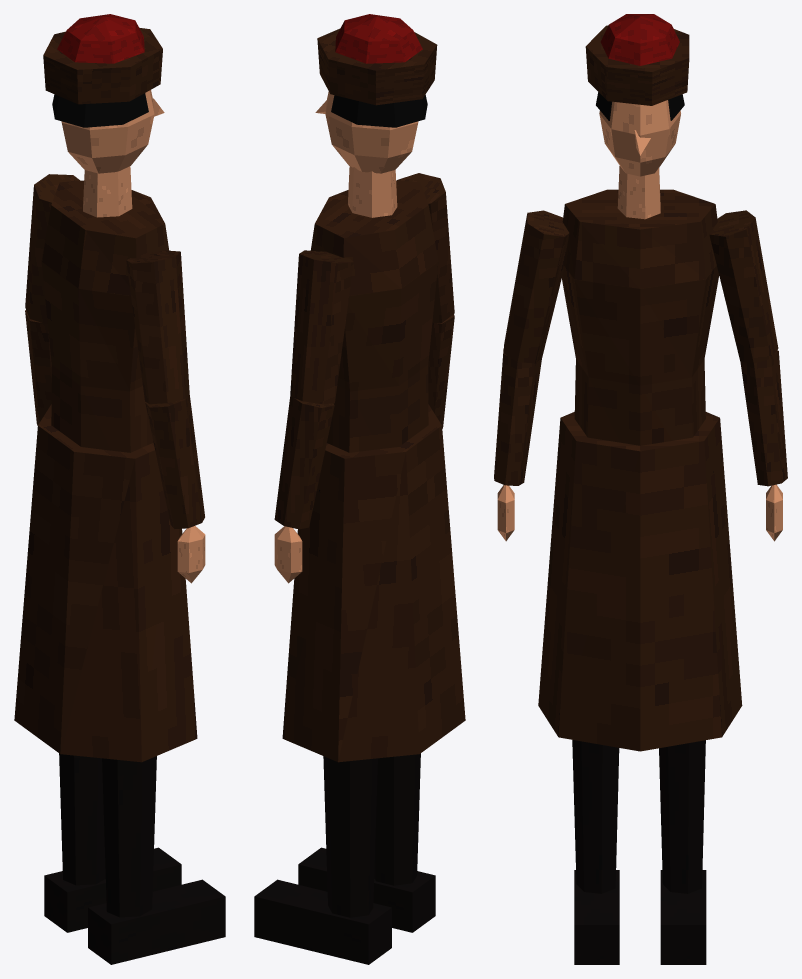
The model's file is explorador.glb.
3 views of the same model, side by side, from view 1: azimuth 30°, elevation 25°; view 2: azimuth 150°, elevation 25°; view 3: azimuth 270°, elevation 25° (orthographic).
Parts seen in each view (by area): view 1: faldon, torso, pierna_der, brazo_der, pie_der, pierna_izq, gorro, antebrazo_der, cabeza, pie_izq, gorro_2, brazo_izq (+4 smaller); view 2: faldon, torso, pierna_izq, brazo_izq, pie_izq, pierna_der, gorro, antebrazo_izq, cabeza, pie_der, gorro_2, brazo_der (+4 smaller); view 3: faldon, torso, brazo_izq, brazo_der, pierna_der, pierna_izq, gorro, cabeza, antebrazo_izq, antebrazo_der, pie_izq, pie_der (+4 smaller).
Boxes of the visible parts, x1,y1,x2,y2 form: faldon: (14,404,197,762); torso: (41,180,169,452); pierna_der: (102,756,156,917); brazo_der: (126,250,189,404); pie_der: (88,879,225,964); pierna_izq: (59,753,105,885); gorro: (43,27,162,104); antebrazo_der: (145,394,204,528); cabeza: (61,90,164,173); pie_izq: (44,847,181,932); gorro_2: (57,14,144,63); brazo_izq: (25,174,79,324); faldon: (282,404,465,762); torso: (310,180,438,452); pierna_izq: (323,756,377,917); brazo_izq: (290,250,353,404); pie_izq: (254,879,391,964); pierna_der: (374,753,420,885); gorro: (317,28,437,105); antebrazo_izq: (274,396,334,529); cabeza: (315,91,418,173); pie_der: (298,847,435,932); gorro_2: (335,14,422,63); brazo_der: (396,173,454,323); faldon: (538,412,742,751); torso: (562,189,719,445); brazo_izq: (709,210,778,363); brazo_der: (504,210,569,363); pierna_der: (572,740,619,893); pierna_izq: (659,740,705,893); gorro: (585,25,689,105); cabeza: (599,100,680,176); antebrazo_izq: (740,350,787,486); antebrazo_der: (494,348,541,485); pie_izq: (660,870,706,964); pie_der: (574,870,619,964).
Bounding box in the file's own units: 0.3 × 1.7 × 0.5.
1 material, 1 textured.
